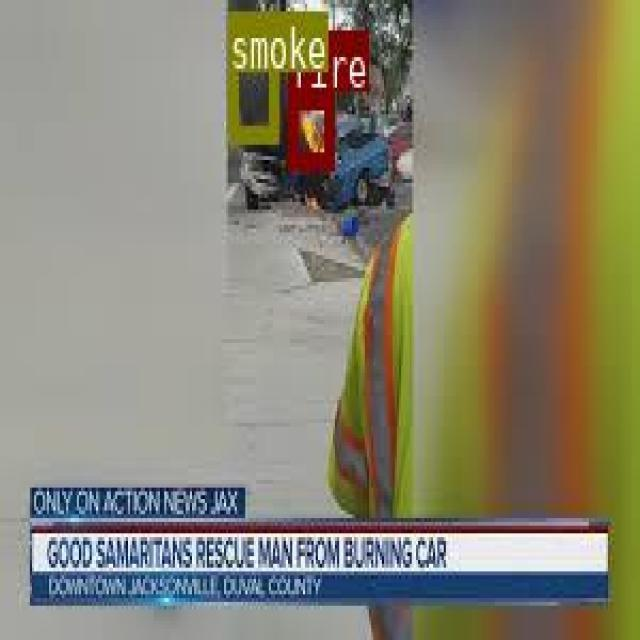fire: (288, 91, 331, 168)
smoke: (228, 8, 276, 139)
